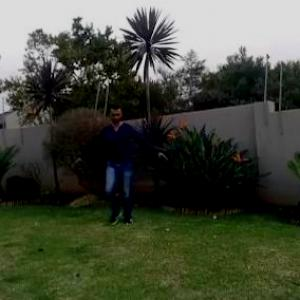land: (76, 97, 178, 226)
